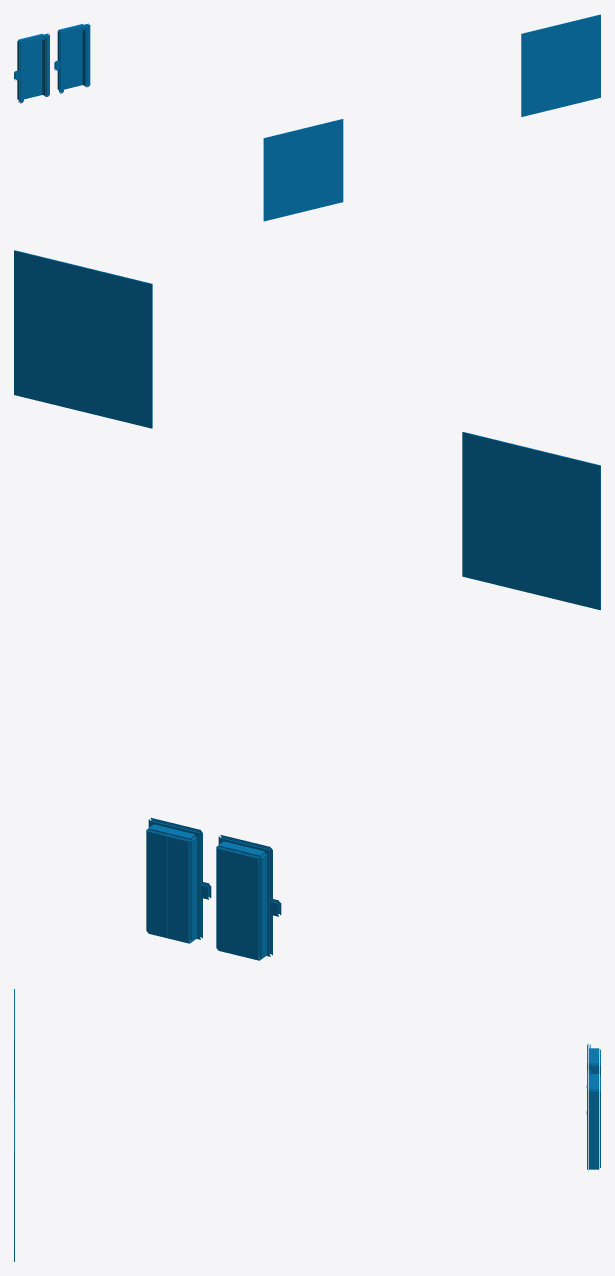
File: Zoll_Atruimholes_zonesupdaes_Level_5_IfcPlate.dae
3 views of the same model, one above another, from view 1: azimuth 30°, elevation 25°; view 2: azimuth 150°, elevation 25°; view 3: azimuth 270°, elevation 25° (orthographic). The views are drawn at different scales.
Parts seen in each view (by area): view 1: 2cW1ZNbTH7he$WurXRvAfv, 2cW1ZNbTH7he$WurXRvAfs, 2cW1ZNbTH7he$WurXRvAfz, 2cW1ZNbTH7he$WurXRvAf$, 2cW1ZNbTH7he$WurXRvAs7, 2cW1ZNbTH7he$WurXRvAvR, 2cW1ZNbTH7he$WurXRvAsK, 2cW1ZNbTH7he$WurXRvAve; view 2: 2cW1ZNbTH7he$WurXRvAfv, 2cW1ZNbTH7he$WurXRvAfs, 2cW1ZNbTH7he$WurXRvAfz, 2cW1ZNbTH7he$WurXRvAf$, 2cW1ZNbTH7he$WurXRvAs4, 2cW1ZNbTH7he$WurXRvAvO, 2cW1ZNbTH7he$WurXRvAl3, 2cW1ZNbTH7he$WurXRvAkb; view 3: 2cW1ZNbTH7he$WurXRvAsJ.
Boxes of the visible parts, x1,y1,x2,y2 form: 2cW1ZNbTH7he$WurXRvAfv: (263,160,343,221); 2cW1ZNbTH7he$WurXRvAfs: (521,55,600,116); 2cW1ZNbTH7he$WurXRvAfz: (263,119,343,179); 2cW1ZNbTH7he$WurXRvAf$: (521,14,600,74); 2cW1ZNbTH7he$WurXRvAs7: (64,42,82,88); 2cW1ZNbTH7he$WurXRvAvR: (24,52,42,98); 2cW1ZNbTH7he$WurXRvAsK: (60,44,89,92); 2cW1ZNbTH7he$WurXRvAve: (20,54,49,102); 2cW1ZNbTH7he$WurXRvAfv: (462,503,600,609); 2cW1ZNbTH7he$WurXRvAfs: (14,321,152,428); 2cW1ZNbTH7he$WurXRvAfz: (462,432,600,536); 2cW1ZNbTH7he$WurXRvAf$: (14,250,152,355); 2cW1ZNbTH7he$WurXRvAs4: (147,859,189,942); 2cW1ZNbTH7he$WurXRvAvO: (217,876,258,959); 2cW1ZNbTH7he$WurXRvAl3: (147,831,189,868); 2cW1ZNbTH7he$WurXRvAkb: (217,848,258,885); 2cW1ZNbTH7he$WurXRvAsJ: (589,1113,597,1168).
Bounding box in the file's own units: 14 × 14.51 × 5.74.
